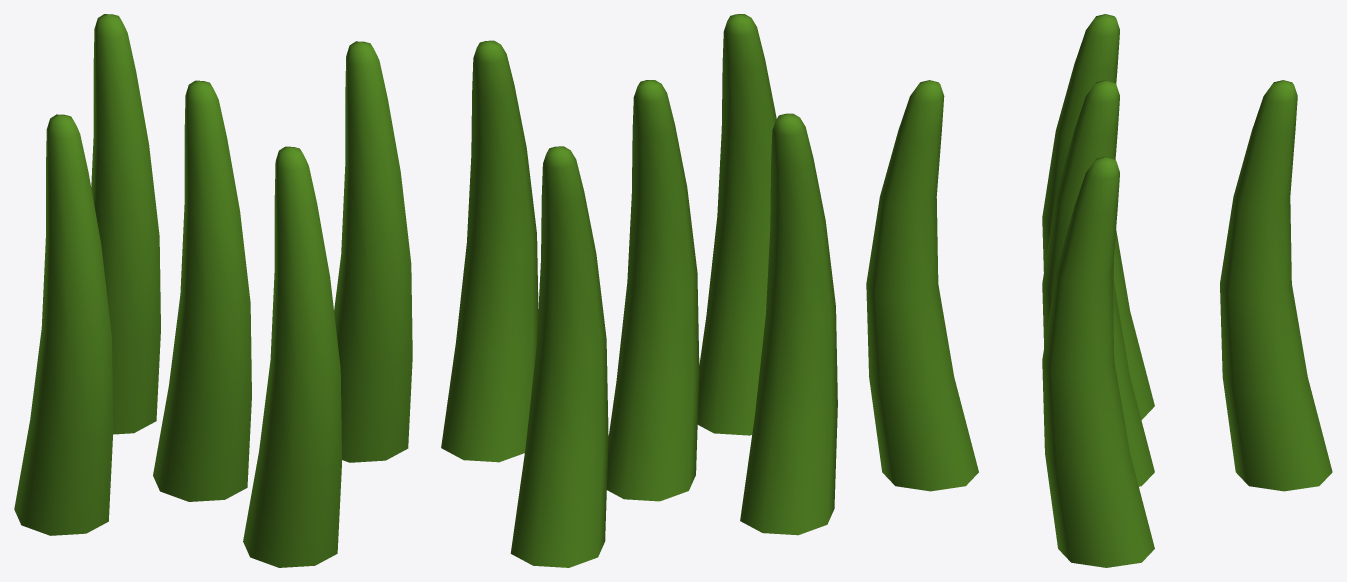
The model's file is grass.fbx.
3 views of the same model, side by side, from view 1: azimuth 30°, elevation 25°; view 2: azimuth 150°, elevation 25°; view 3: azimuth 270°, elevation 25° (orthographic). The views are drawn at different scales.
Parts seen in each view (by area): view 1: Cube.072; view 2: Cube.072; view 3: Cube.072.
Boxes of the visible parts, x1,y1,x2,y2 form: Cube.072: (14, 14, 412, 567); Cube.072: (441, 14, 837, 567); Cube.072: (866, 14, 1332, 567).
Bounding box in the file's own units: 0.2313 × 0.2519 × 0.233.
